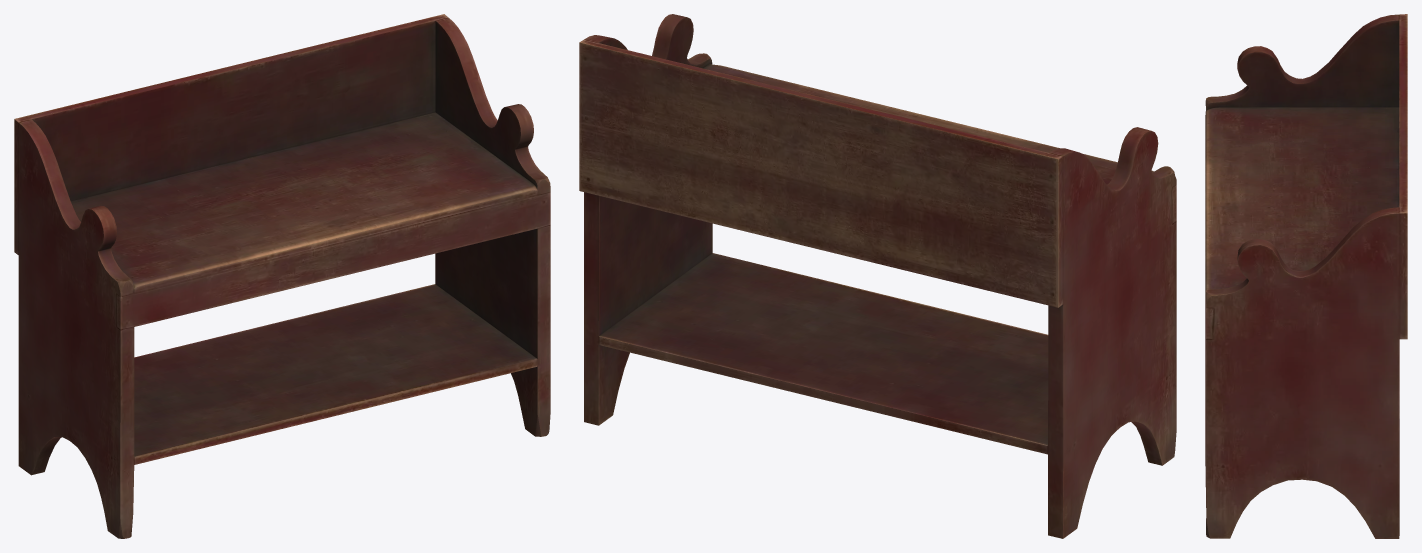
The model's file is bench-wood.glb.
3 views of the same model, side by side, from view 1: azimuth 30°, elevation 25°; view 2: azimuth 150°, elevation 25°; view 3: azimuth 270°, elevation 25° (orthographic). The views are drawn at different scales.
Visible parts, largest first — view 1: painted_wooden_bench; view 2: painted_wooden_bench; view 3: painted_wooden_bench.
Part boxes in pixels (bbox=[...]): painted_wooden_bench: bbox=[14, 14, 550, 538]; painted_wooden_bench: bbox=[579, 14, 1176, 538]; painted_wooden_bench: bbox=[1205, 14, 1407, 538].
Bounding box in the file's own units: 1.17 × 0.8901 × 0.4999.
Materials: 1 (1 with a texture image).
